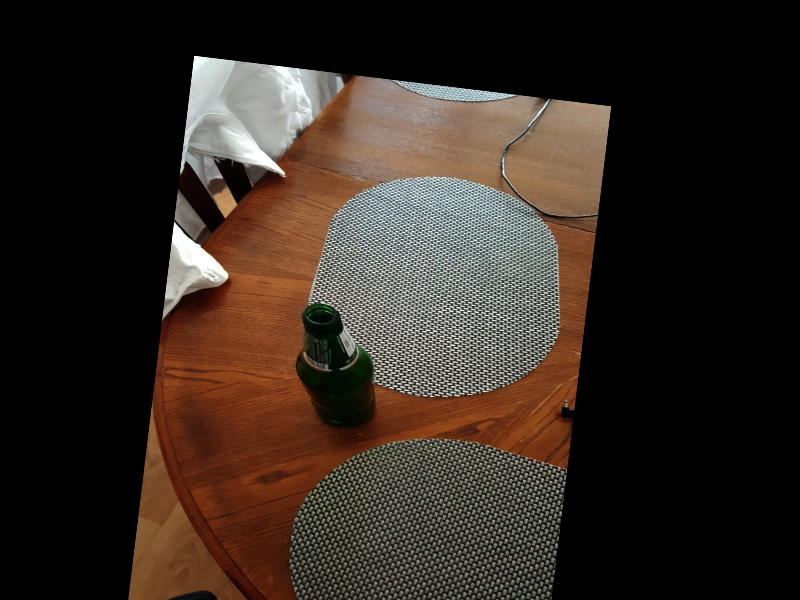Beer: (289, 301, 384, 432)
